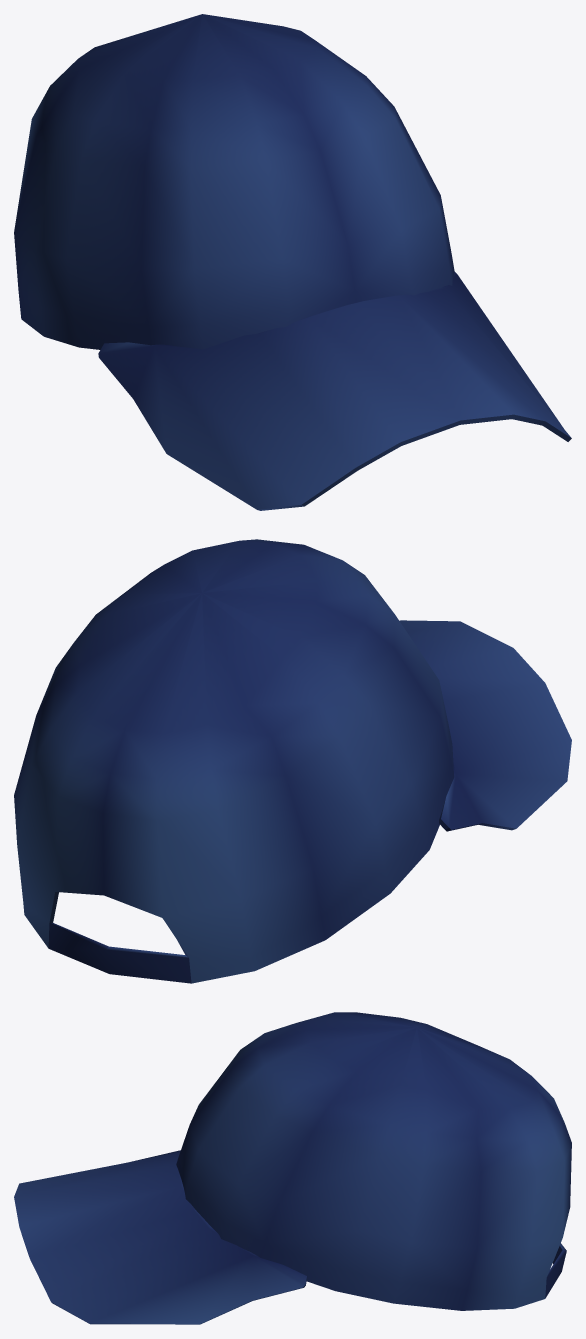
3 views of the same model, one above another, from view 1: azimuth 30°, elevation 25°; view 2: azimuth 150°, elevation 25°; view 3: azimuth 270°, elevation 25° (orthographic). The views are drawn at different scales.
Visible parts, largest first — view 1: BaseballCap; view 2: BaseballCap; view 3: BaseballCap.
Boxes of the visible parts, x1,y1,x2,y2 form: BaseballCap: [14, 14, 571, 510]; BaseballCap: [14, 539, 571, 983]; BaseballCap: [14, 1012, 571, 1324].
Size of the model in its own units: 0.2847 by 0.2417 by 0.5.
